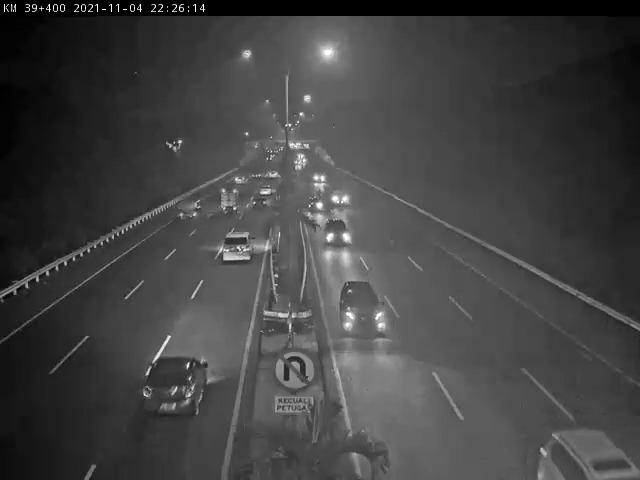car: (545, 432, 616, 480), (151, 355, 202, 413), (336, 284, 388, 337), (219, 231, 256, 264), (328, 217, 355, 255), (332, 190, 349, 209), (305, 196, 326, 209), (260, 185, 271, 199), (254, 199, 266, 209)
truck-s-: (182, 194, 200, 220), (218, 191, 238, 214)
